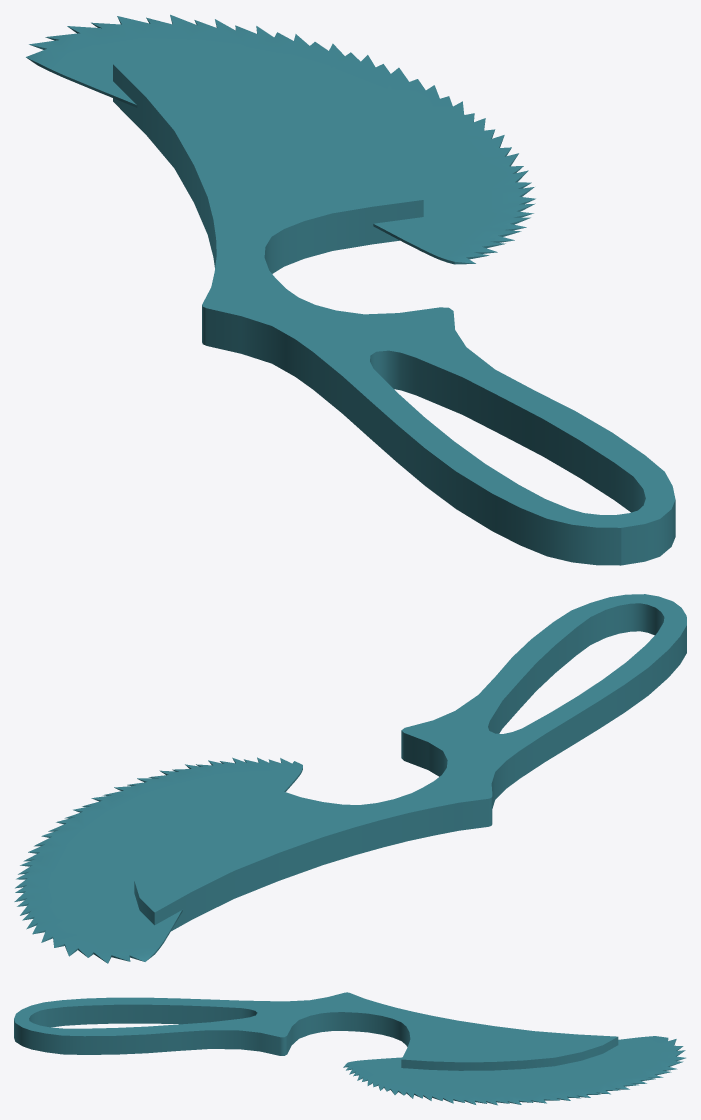
File: SM_Surgical_Saw_6.FBX
The picture shows the model from 3 angles, top to bottom: view 1: azimuth 30°, elevation 25°; view 2: azimuth 150°, elevation 25°; view 3: azimuth 270°, elevation 25°; orthographic projection. The views are drawn at different scales.
Visible parts, largest first — view 1: Surgical_Saw_6; view 2: Surgical_Saw_6; view 3: Surgical_Saw_6.
Part boxes in pixels (box(x1,y1,x2,y2)): Surgical_Saw_6: box(26, 14, 675, 565); Surgical_Saw_6: box(14, 594, 686, 963); Surgical_Saw_6: box(14, 992, 685, 1105).
Bounding box in the file's own units: 14.39 × 1.22 × 39.66.
